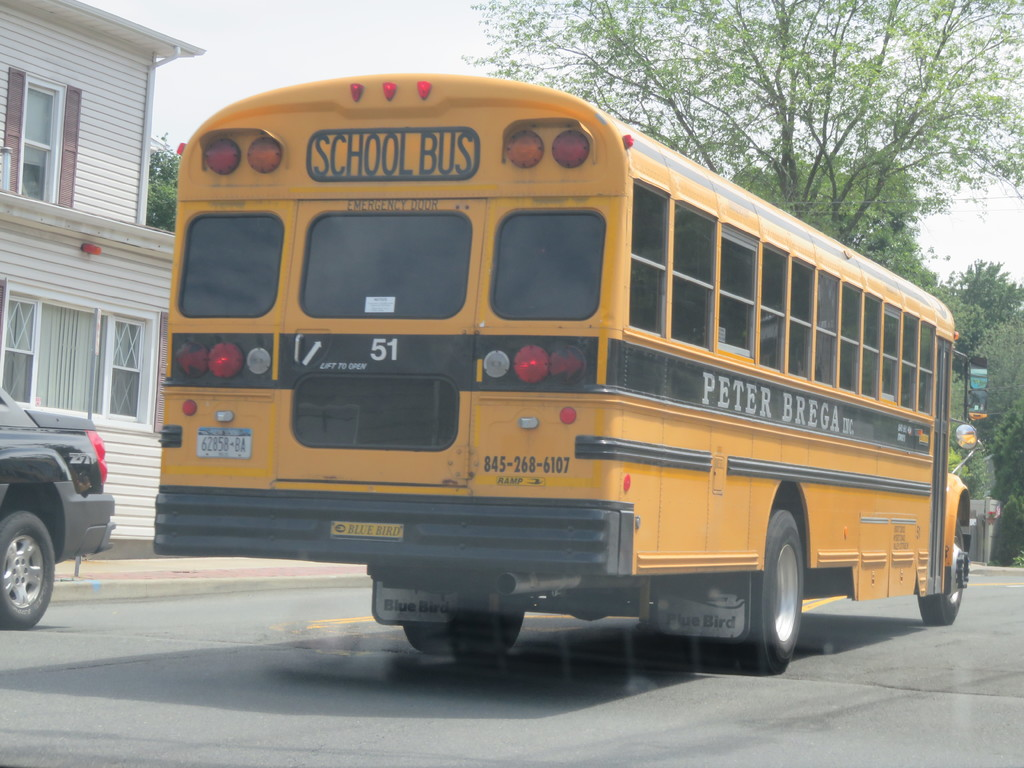Car: (0, 394, 122, 631)
